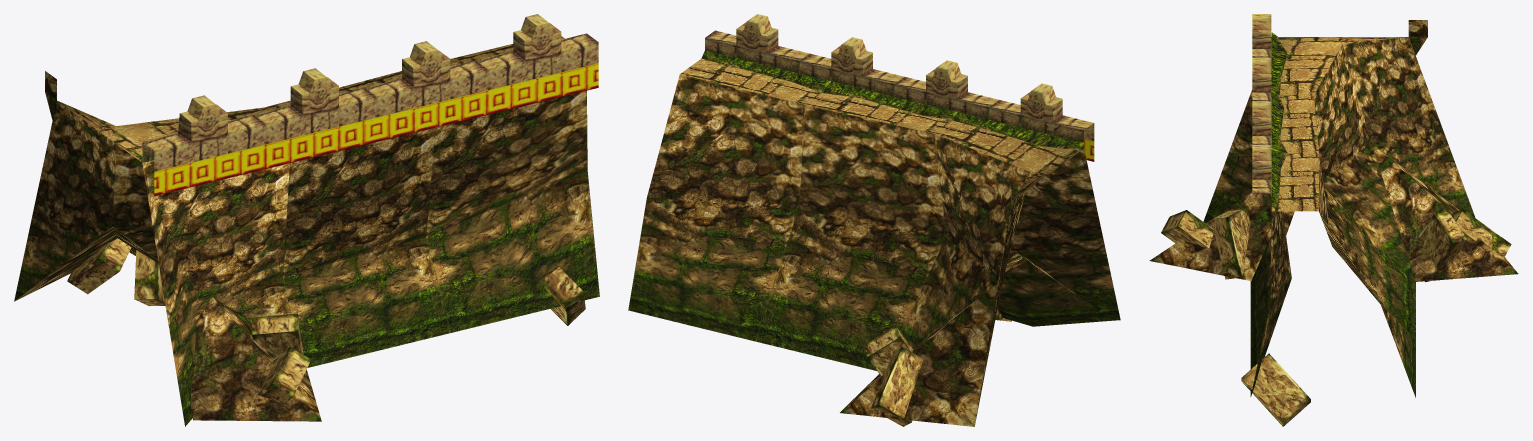
File: narrow_long_end_2.fbx
3 renders of one model, left to right at view 1: azimuth 30°, elevation 25°; view 2: azimuth 150°, elevation 25°; view 3: azimuth 270°, elevation 25°, orthographic. The views are drawn at different scales.
Parts seen in each view (by area): view 1: templeStraightNarrowLongUpBHorz_prefab; view 2: templeStraightNarrowLongUpBHorz_prefab; view 3: templeStraightNarrowLongUpBHorz_prefab.
Boxes of the visible parts, <box> form: templeStraightNarrowLongUpBHorz_prefab: <box>14,14,599,426</box>; templeStraightNarrowLongUpBHorz_prefab: <box>628,14,1120,426</box>; templeStraightNarrowLongUpBHorz_prefab: <box>1149,14,1518,426</box>.
Size of the model in its own units: 6083 by 4212 by 5373.
